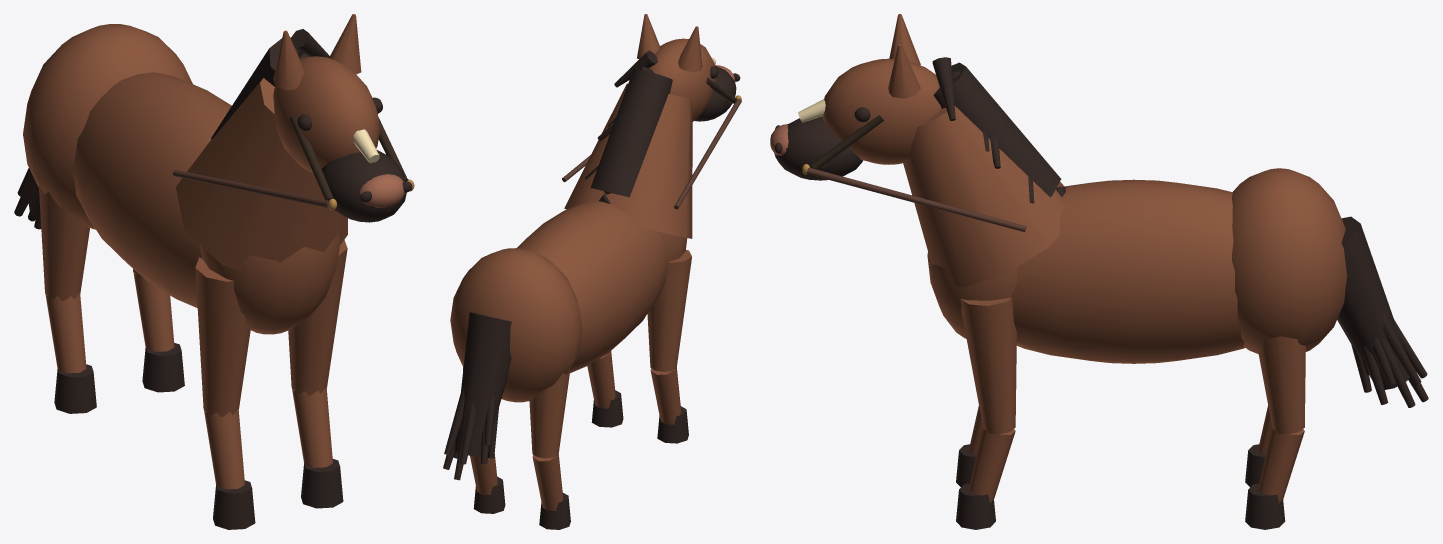
Rendered from cheval.glb.
The picture shows the model from 3 angles, left to right: view 1: azimuth 30°, elevation 25°; view 2: azimuth 150°, elevation 25°; view 3: azimuth 270°, elevation 25°; orthographic projection. The views are drawn at different scales.
Visible parts, largest first — view 1: cheval_Maillage; view 2: cheval_Maillage; view 3: cheval_Maillage.
Part boxes in pixels (<box>): cheval_Maillage: <box>14,14,414,529</box>; cheval_Maillage: <box>443,14,741,529</box>; cheval_Maillage: <box>770,14,1428,529</box>.
Size of the model in its own units: 0.76 by 2.36 by 2.98.
